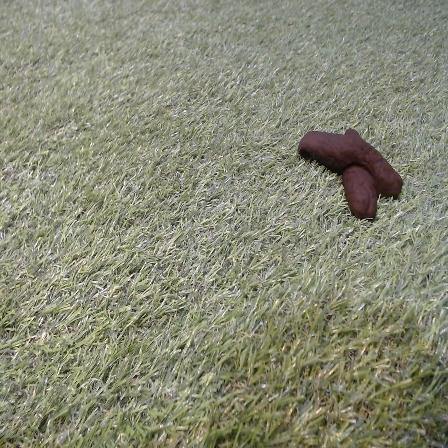dog-poop: (303, 123, 406, 222)
